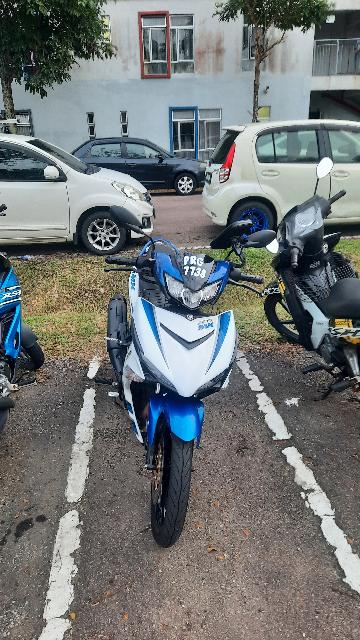License_Plate: (170, 250, 219, 285)
motorcycle: (90, 223, 262, 553)
